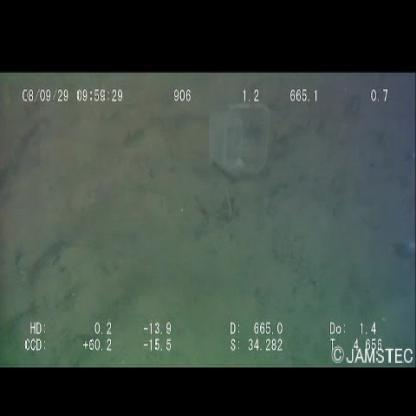Rác: (206, 104, 272, 182)
